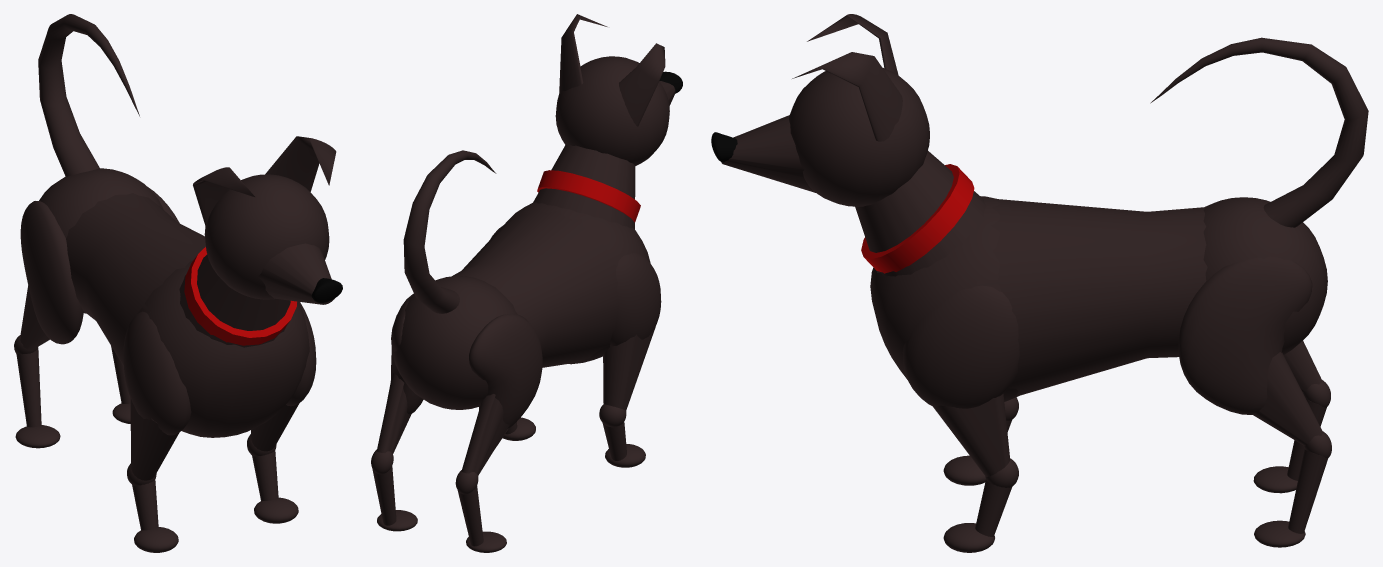
The model's file is dog.fbx.
The picture shows the model from 3 angles, left to right: view 1: azimuth 30°, elevation 25°; view 2: azimuth 150°, elevation 25°; view 3: azimuth 270°, elevation 25°; orthographic projection. The views are drawn at different scales.
Parts seen in each view (by area): view 1: polySurface6; view 2: polySurface6; view 3: polySurface6.
Part boxes in pixels (x1,y1,x2,y2): polySurface6: [14, 14, 342, 552]; polySurface6: [371, 14, 682, 552]; polySurface6: [711, 14, 1368, 552].
Size of the model in its own units: 2.16 by 5.05 by 6.19.
